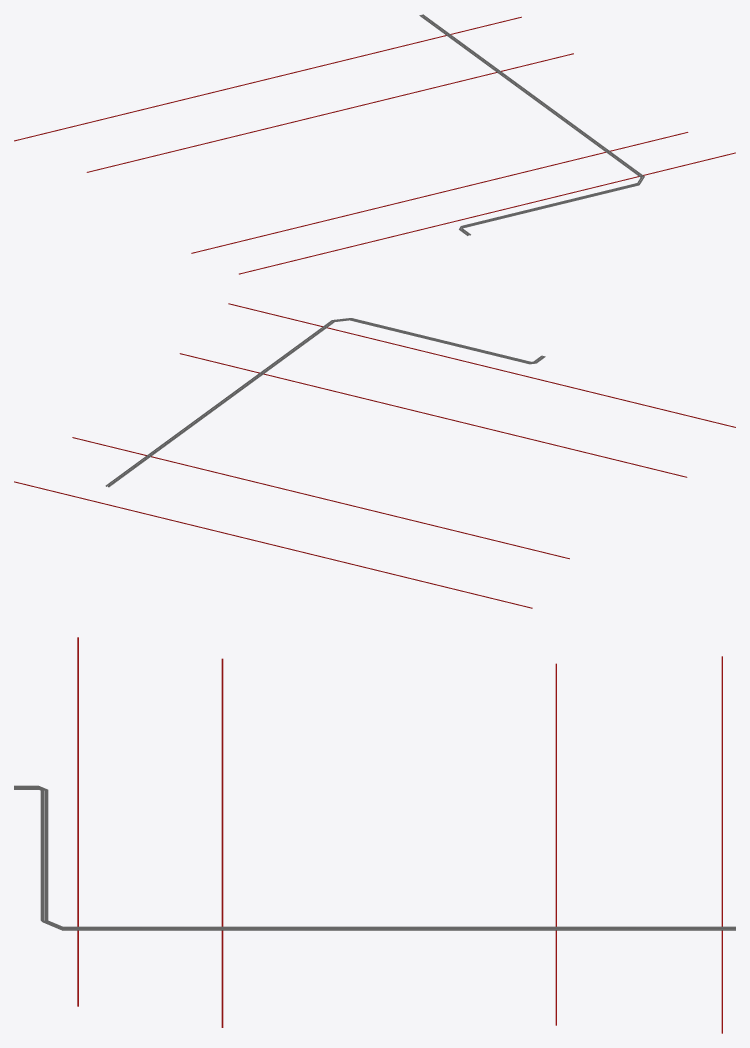
The model's file is SM_H_Building_Tide_Library_01F_ATLAS.fbx.
The picture shows the model from 3 angles, top to bottom: view 1: azimuth 30°, elevation 25°; view 2: azimuth 150°, elevation 25°; view 3: azimuth 270°, elevation 25°; orthographic projection. The views are drawn at different scales.
Visible parts, largest first — view 1: SM_H_Building_Tide_Library_01F_ATLAS; view 2: SM_H_Building_Tide_Library_01F_ATLAS; view 3: SM_H_Building_Tide_Library_01F_ATLAS.
Boxes of the visible parts, x1,y1,x2,y2 form: SM_H_Building_Tide_Library_01F_ATLAS: (14, 14, 735, 274); SM_H_Building_Tide_Library_01F_ATLAS: (14, 303, 735, 608); SM_H_Building_Tide_Library_01F_ATLAS: (14, 637, 735, 1033).
Size of the model in its own units: 3662 by 2956 by 155.
